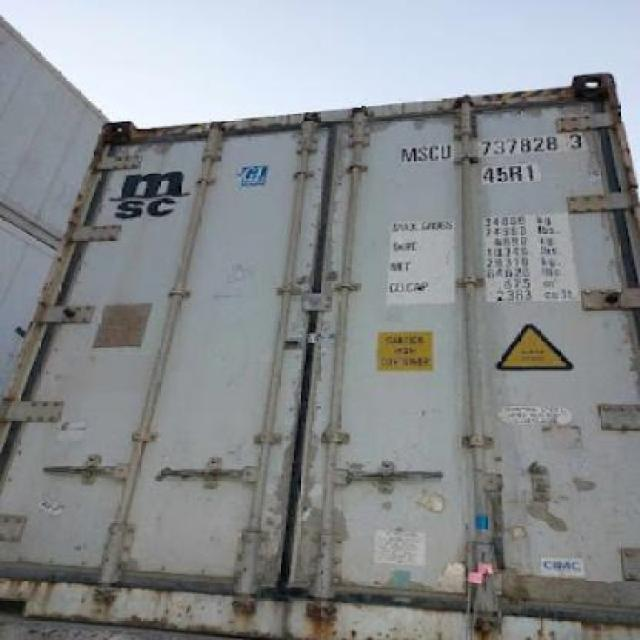ISO: (477, 166, 538, 182)
container_number: (396, 132, 585, 162)
